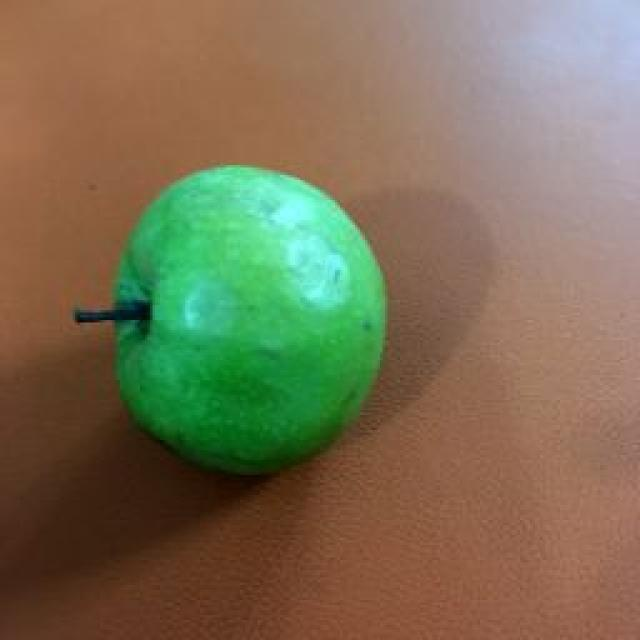Good_Apple: (72, 165, 388, 480)
